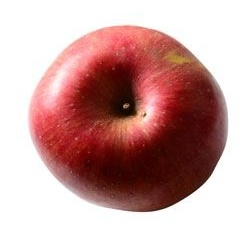apple: (23, 23, 230, 214)
